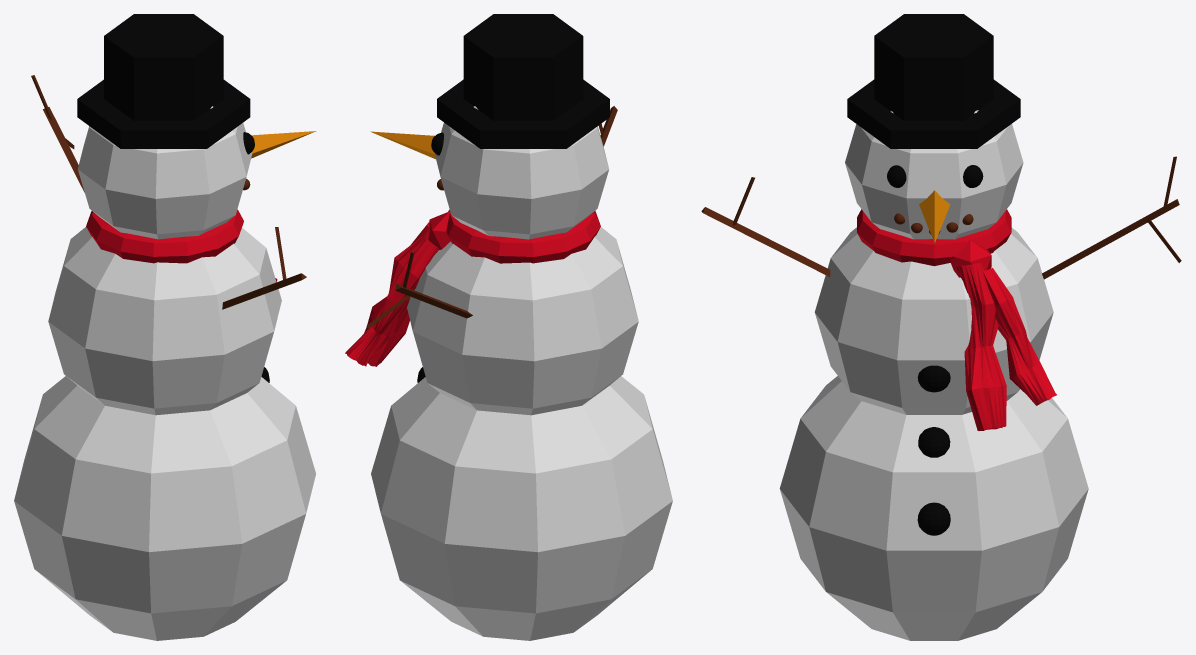
The model's file is sneeuwpop.dae.
3 views of the same model, side by side, from view 1: azimuth 30°, elevation 25°; view 2: azimuth 150°, elevation 25°; view 3: azimuth 270°, elevation 25° (orthographic).
Visible parts, largest first — view 1: Sphere, Sphere_001, Sphere_002, Cylinder_003, Cylinder_002, Torus, Cone, Cylinder_004, Cylinder_007; view 2: Sphere, Sphere_001, Sphere_002, Cylinder_003, Cylinder_002, Torus, Cylinder_001, Cylinder, Cone, Cylinder_007, Icosphere; view 3: Sphere, Sphere_001, Sphere_002, Cylinder_003, Cylinder_002, Cylinder, Torus, Cylinder_001, Cylinder_007, Cylinder_004, Sphere_003, Cone (+3 smaller).
Boxes of the visible parts, x1=… form: Sphere: x1=14, y1=376, x2=315, y2=640; Sphere_001: x1=48, y1=227, x2=281, y2=415; Sphere_002: x1=78, y1=106, x2=252, y2=239; Cylinder_003: x1=104, y1=14, x2=223, y2=120; Cylinder_002: x1=77, y1=79, x2=250, y2=148; Torus: x1=86, y1=209, x2=243, y2=263; Cone: x1=251, y1=131, x2=316, y2=158; Cylinder_004: x1=222, y1=273, x2=306, y2=309; Cylinder_007: x1=43, y1=107, x2=84, y2=192; Sphere: x1=371, y1=376, x2=672, y2=640; Sphere_001: x1=407, y1=227, x2=638, y2=415; Sphere_002: x1=434, y1=106, x2=609, y2=239; Cylinder_003: x1=463, y1=14, x2=583, y2=120; Cylinder_002: x1=437, y1=79, x2=609, y2=148; Torus: x1=446, y1=209, x2=600, y2=263; Cylinder_001: x1=345, y1=235, x2=438, y2=366; Cylinder: x1=364, y1=222, x2=429, y2=366; Cone: x1=370, y1=131, x2=435, y2=159; Cylinder_007: x1=395, y1=283, x2=472, y2=318; Icosphere: x1=428, y1=211, x2=450, y2=249; Sphere: x1=779, y1=376, x2=1088, y2=640; Sphere_001: x1=814, y1=227, x2=1053, y2=414; Sphere_002: x1=845, y1=110, x2=1023, y2=239; Cylinder_003: x1=874, y1=14, x2=993, y2=120; Cylinder_002: x1=847, y1=79, x2=1020, y2=148; Cylinder: x1=956, y1=263, x2=1006, y2=430; Torus: x1=857, y1=209, x2=1011, y2=266; Cylinder_001: x1=983, y1=268, x2=1056, y2=405; Cylinder_007: x1=1042, y1=199, x2=1179, y2=279; Cylinder_004: x1=701, y1=207, x2=830, y2=276; Sphere_003: x1=917, y1=502, x2=950, y2=535; Cone: x1=919, y1=190, x2=950, y2=242.
Bounding box in the file's own units: 2.09 × 3.11 × 4.1.
